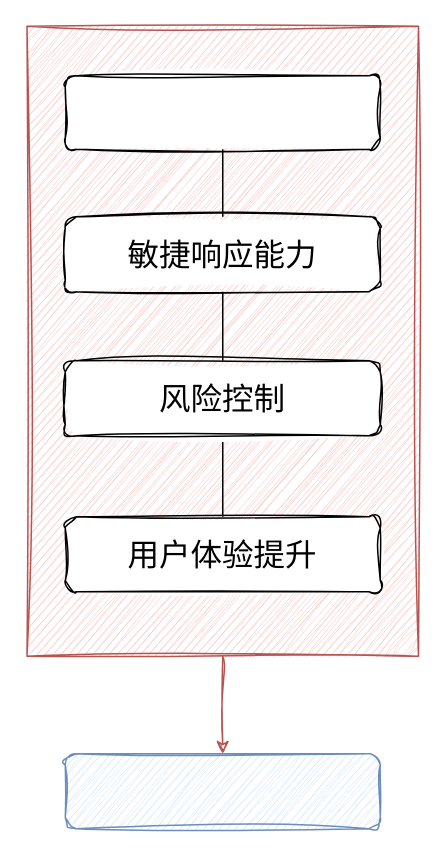
Image size: 444x855. Some labels were removed from this diagram. The shapes that lost their labels are listed below. From the top down, each one's centre as x and y in pixels, then its label:
the point at 222,111: 业务连续性保障
the point at 222,790: 满意度提升
